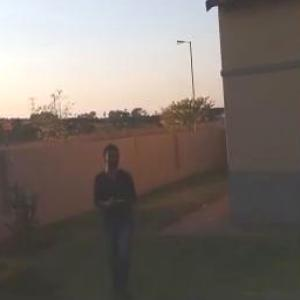follow: (89, 137, 145, 299)
